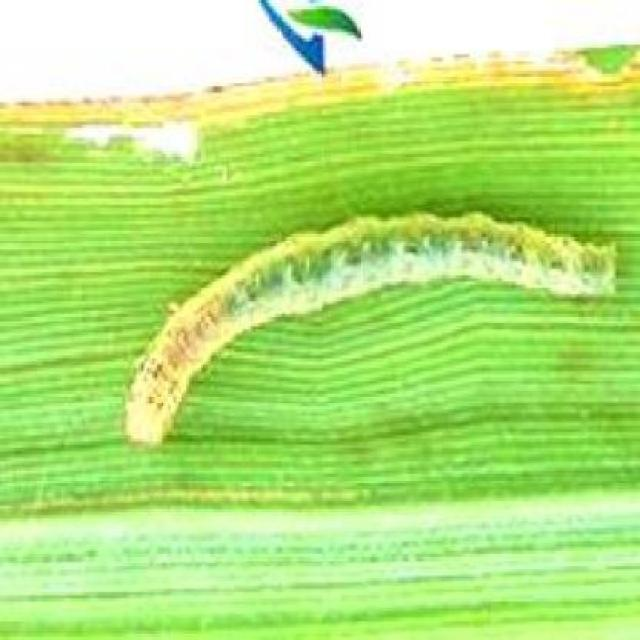leaf-folder: (108, 178, 617, 460)
